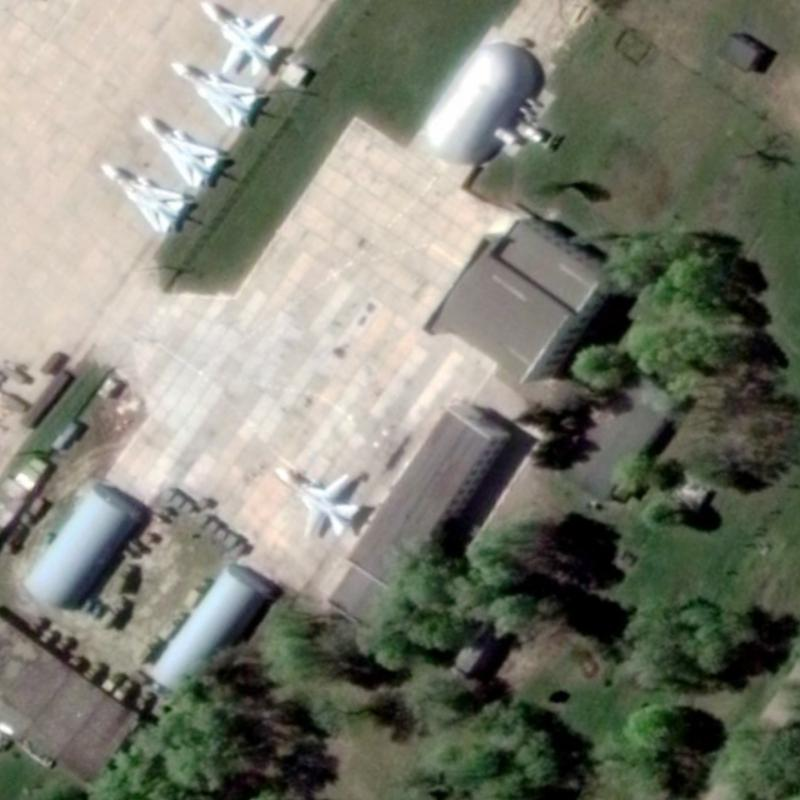A20: (271, 463, 360, 539), (96, 161, 186, 234), (136, 112, 220, 190), (167, 58, 258, 129), (195, 0, 280, 76)
